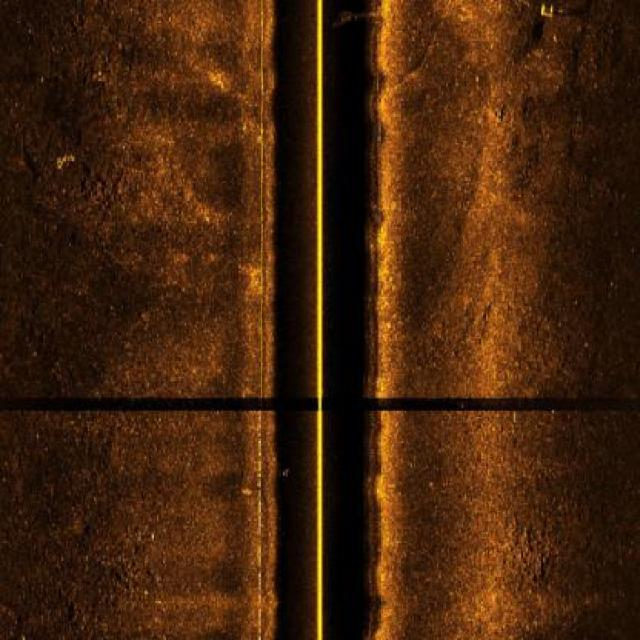mine: (531, 2, 567, 18)
